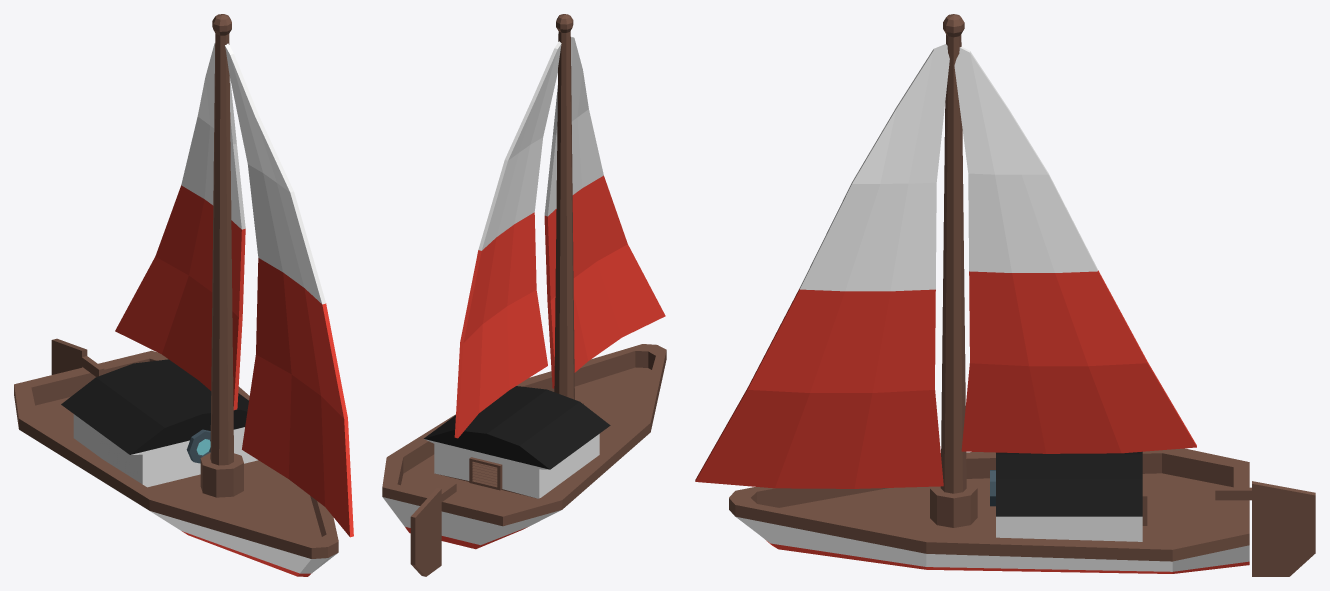
Rendered from scene_C3eezPiV1Y.glb.
3 views of the same model, side by side, from view 1: azimuth 30°, elevation 25°; view 2: azimuth 150°, elevation 25°; view 3: azimuth 270°, elevation 25° (orthographic). The views are drawn at different scales.
Parts seen in each view (by area): view 1: Cube.025_Cube.031; view 2: Cube.025_Cube.031; view 3: Cube.025_Cube.031.
Boxes of the visible parts, <box> form: Cube.025_Cube.031: <box>14,14,353,576</box>; Cube.025_Cube.031: <box>382,14,666,576</box>; Cube.025_Cube.031: <box>695,14,1315,576</box>.
Size of the model in its own units: 4.07 by 10.21 by 10.26.
